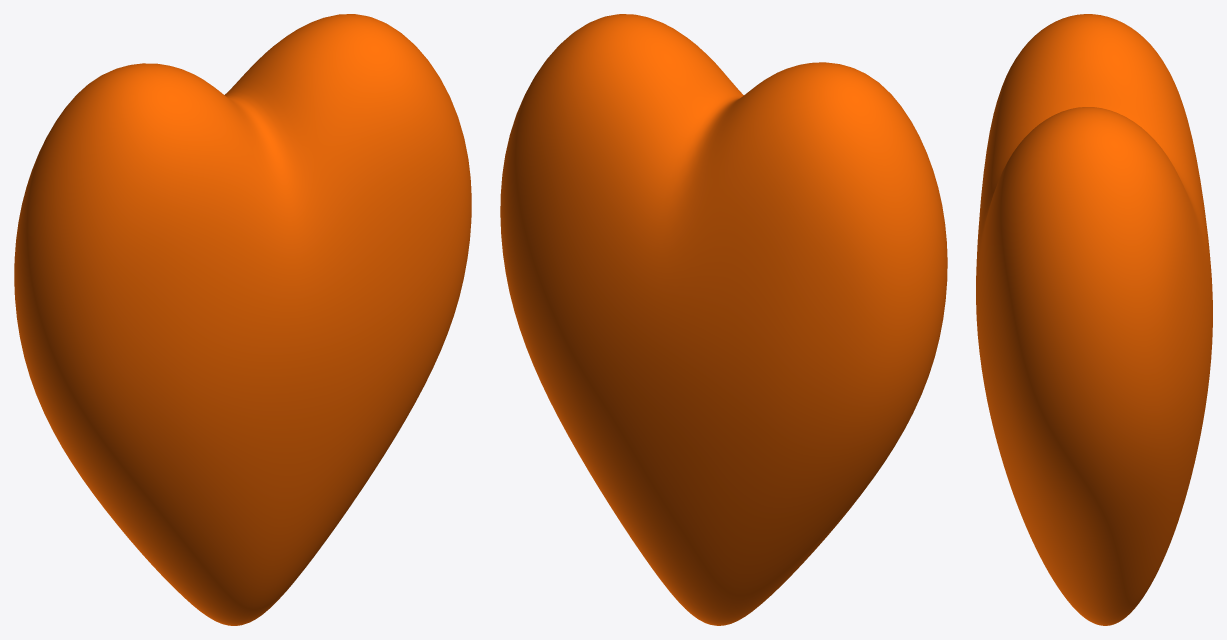
The model's file is Coeur.glb.
3 renders of one model, left to right at view 1: azimuth 30°, elevation 25°; view 2: azimuth 150°, elevation 25°; view 3: azimuth 270°, elevation 25°, orthographic. The views are drawn at different scales.
Parts seen in each view (by area): view 1: Heart; view 2: Heart; view 3: Heart.
Boxes of the visible parts, <box> form: Heart: <box>14,14,471,625</box>; Heart: <box>500,14,947,625</box>; Heart: <box>976,14,1212,625</box>.
Bounding box in the file's own units: 5.2 × 6.73 × 2.61.
